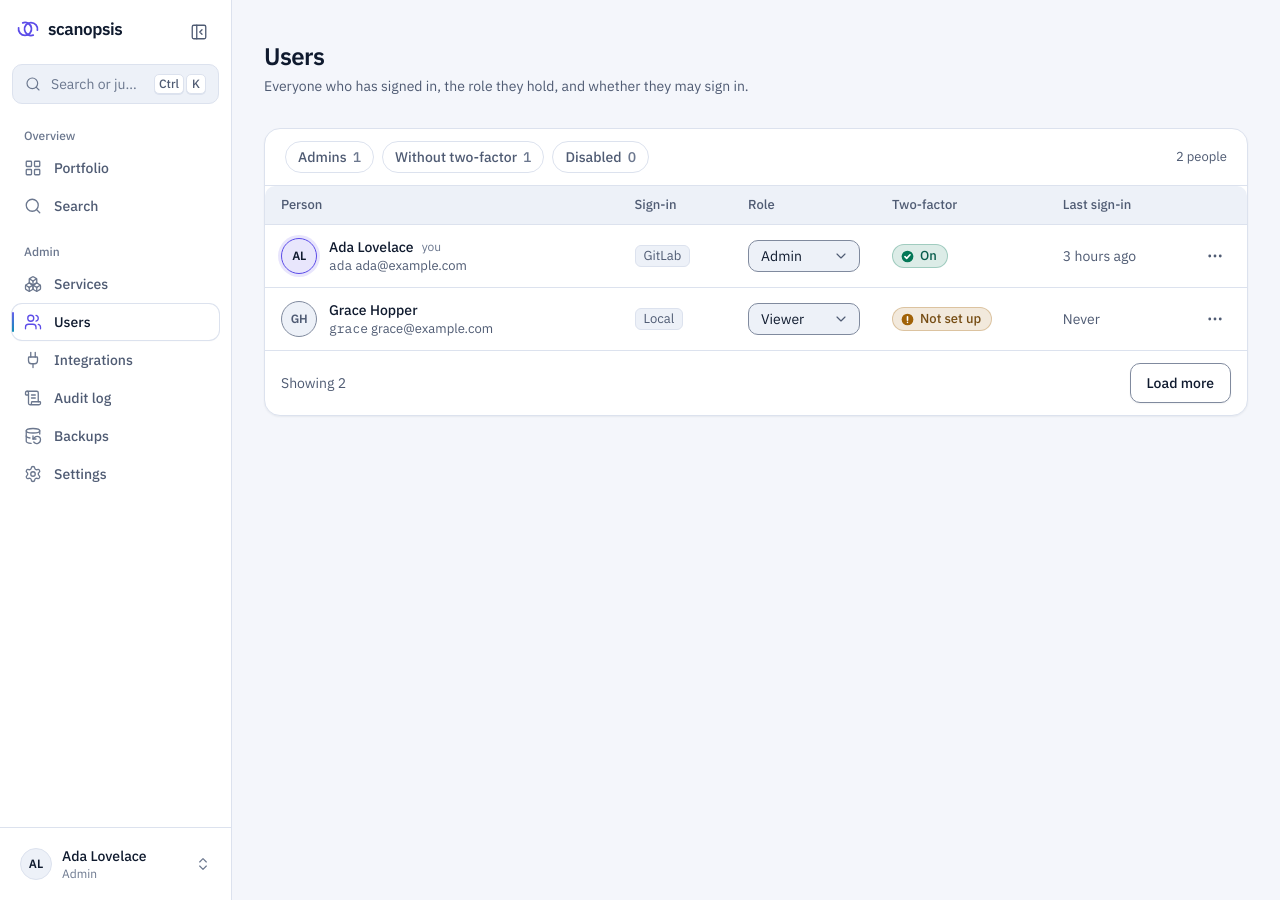
users page › loads more users with next_after
Expected: the text "Showing 2" is shown, 281,373 -> 346,393
Expected: the text "Linus" is not shown
Click the button "Load more". click: (1180, 383)
box: 1130,363 -> 1231,403
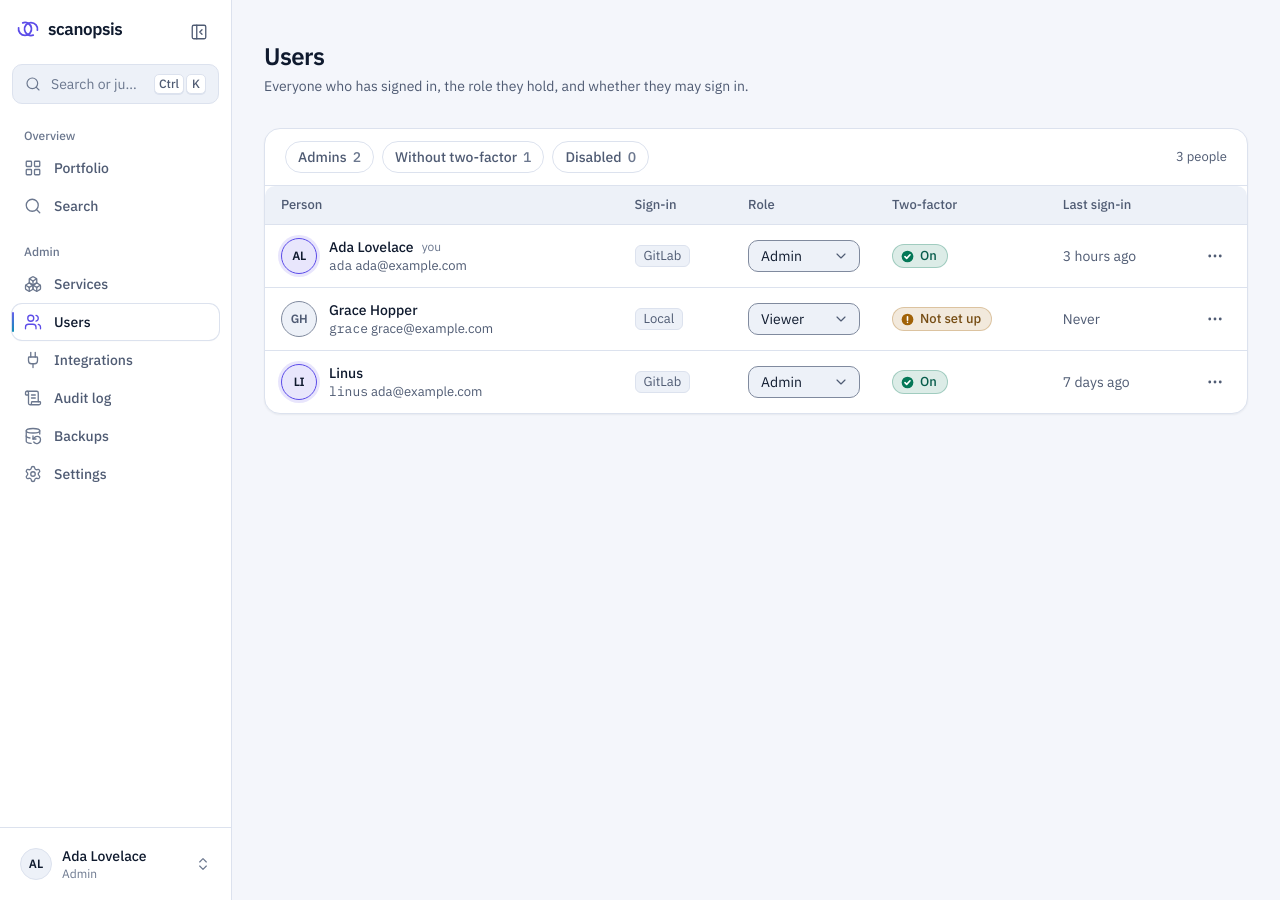
Expected: the text "Grace Hopper" is shown, 329,300 -> 418,320
Result: the text "Linus" is shown at 329,363 -> 363,383
Result: the button "Load more" is gone
